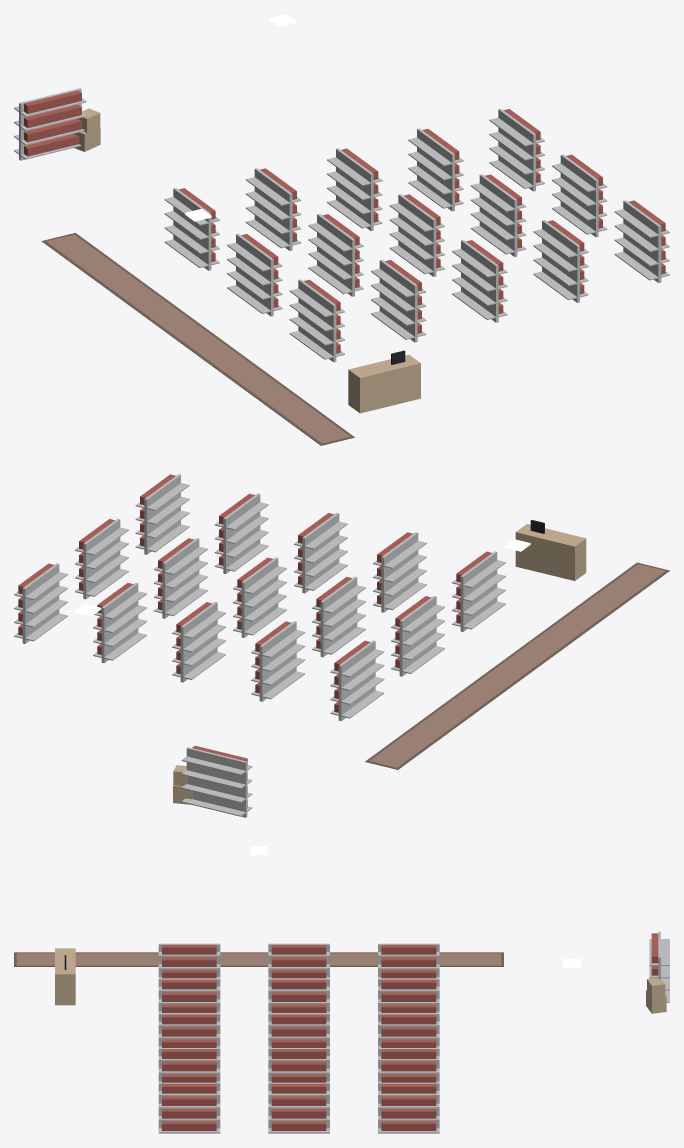
Rendered from fine-s0.glb.
3 views of the same model, one above another, from view 1: azimuth 30°, elevation 25°; view 2: azimuth 150°, elevation 25°; view 3: azimuth 270°, elevation 25° (orthographic). The views are drawn at different scales.
Visible parts, largest first — view 1: soft-s0, shelving.000, shop-counter.000, shelf.008, shelf.014, shelf.003, shelf.010, shelf.006, shelf.011, shelf.002, shelf.007, shelf.004 (+7 smaller); view 2: soft-s0, shelving.000, shop-counter.000, shelf.000, shelf.003, shelf.011, shelf.008, shelf.012, shelf.007, shelf.002, shelf.004, shelf.010 (+7 smaller); view 3: soft-s0, shelf.014, shelf.012, shelf.013, shelf.002, shelf.000, shelf.001, shelf.005, shelf.008, shelf.011, shelf.003, shelf.004 (+7 smaller).
Part boxes in pixels (bbox=[...]): soft-s0: bbox=[41, 233, 354, 445]; shelving.000: bbox=[14, 88, 86, 160]; shop-counter.000: bbox=[348, 350, 420, 413]; shelf.008: bbox=[452, 240, 507, 322]; shelf.014: bbox=[614, 200, 669, 282]; shelf.003: bbox=[245, 168, 301, 250]; shelf.010: bbox=[470, 174, 526, 256]; shelf.006: bbox=[327, 148, 382, 231]; shelf.011: bbox=[533, 220, 588, 302]; shelf.002: bbox=[289, 279, 344, 362]; shelf.007: bbox=[389, 194, 444, 276]; shelf.004: bbox=[308, 214, 363, 296]; soft-s0: bbox=[365, 562, 669, 769]; shelving.000: bbox=[181, 745, 252, 817]; shop-counter.000: bbox=[515, 520, 586, 580]; shelf.000: bbox=[330, 640, 384, 721]; shelf.003: bbox=[251, 621, 305, 701]; shelf.011: bbox=[214, 493, 268, 573]; shelf.008: bbox=[294, 512, 347, 593]; shelf.012: bbox=[14, 563, 67, 643]; shelf.007: bbox=[233, 557, 286, 637]; shelf.002: bbox=[452, 551, 505, 631]; shelf.004: bbox=[312, 576, 365, 657]; shelf.010: bbox=[154, 538, 207, 618]; soft-s0: bbox=[14, 952, 503, 966]; shelf.014: bbox=[158, 1082, 220, 1133]; shelf.012: bbox=[378, 1082, 439, 1133]; shelf.013: bbox=[268, 1082, 329, 1133]; shelf.002: bbox=[158, 943, 220, 978]; shelf.000: bbox=[378, 943, 439, 978]; shelf.001: bbox=[268, 943, 329, 978]; shelf.005: bbox=[158, 978, 220, 1012]; shelf.008: bbox=[158, 1013, 220, 1047]; shelf.011: bbox=[158, 1048, 220, 1082]; shelf.003: bbox=[378, 978, 439, 1012]; shelf.004: bbox=[268, 978, 329, 1012].
Bounding box in the file's own units: 12.75 × 3.53 × 19.14.
